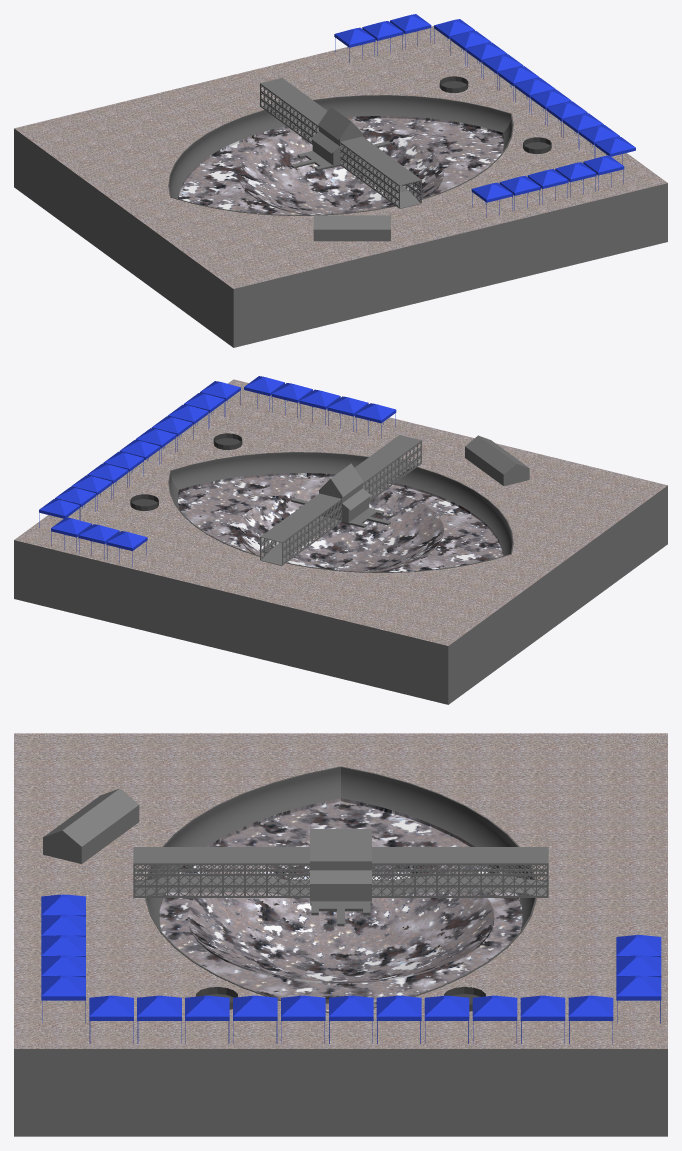
The model's file is transdec.dae.
3 renders of one model, top to bottom at view 1: azimuth 30°, elevation 25°; view 2: azimuth 150°, elevation 25°; view 3: azimuth 270°, elevation 25°, orthographic. The views are drawn at different scales.
Visible parts, largest first — view 1: mesh_1, mesh_8, mesh_7, mesh_9, mesh_2, mesh_12, mesh_11; view 2: mesh_1, mesh_8, mesh_7, mesh_9, mesh_2, mesh_12, mesh_11; view 3: mesh_1, mesh_8, mesh_7, mesh_9, mesh_2, mesh_12, mesh_11.
Part boxes in pixels (x1,y1,x2,y2): mesh_1: (14, 26, 667, 288); mesh_8: (14, 78, 667, 347); mesh_7: (178, 116, 503, 215); mesh_9: (334, 14, 635, 217); mesh_2: (168, 95, 513, 215); mesh_12: (262, 101, 420, 208); mesh_11: (439, 76, 551, 153); mesh_1: (14, 379, 667, 645); mesh_8: (14, 435, 667, 704); mesh_7: (178, 473, 503, 572); mesh_9: (39, 376, 396, 566); mesh_2: (168, 452, 513, 572); mesh_12: (261, 458, 419, 565); mesh_11: (130, 433, 242, 510); mesh_1: (14, 733, 667, 1048); mesh_8: (14, 788, 667, 1136); mesh_7: (159, 798, 522, 1011); mesh_9: (41, 894, 661, 1043); mesh_2: (145, 766, 536, 1012); mesh_12: (135, 876, 546, 895); mesh_11: (196, 987, 485, 1011).
Bounding box in the file's own units: 117 × 102 × 25.89.
Materials: 6 (2 with a texture image).
